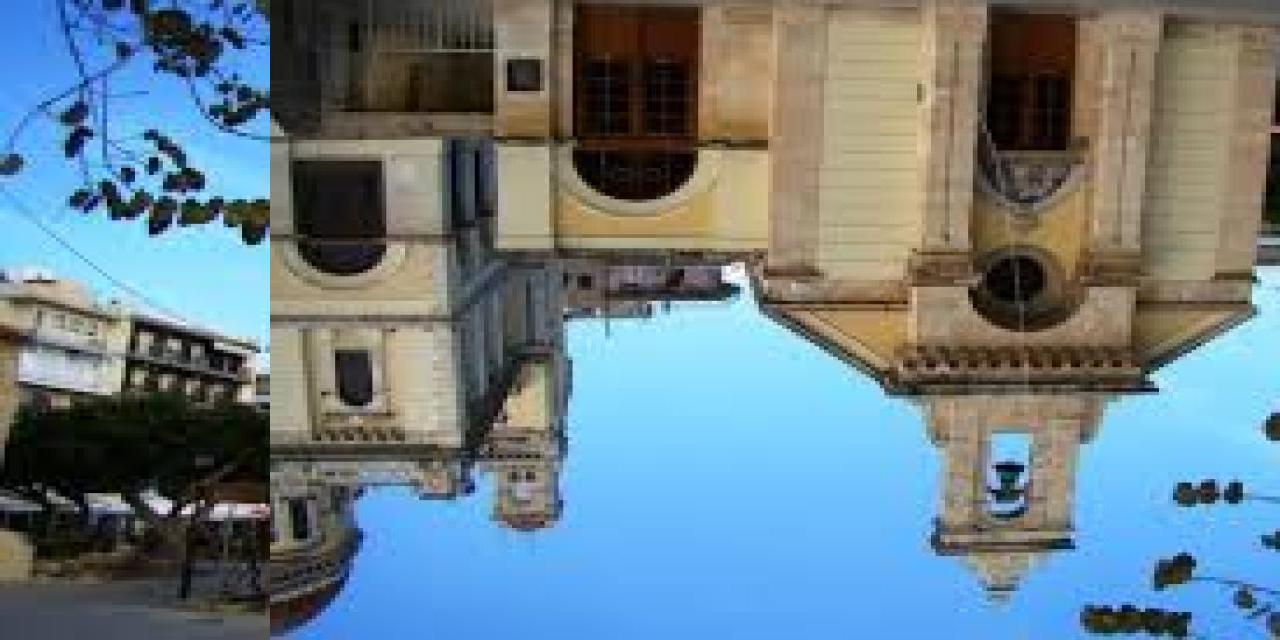Agios Minas: (271, 1, 1280, 640)
